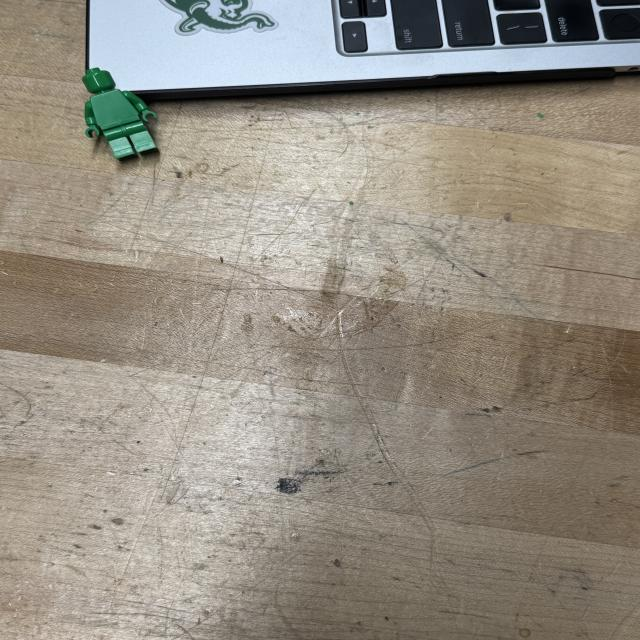Green Mini Figure: (87, 90, 139, 130)
